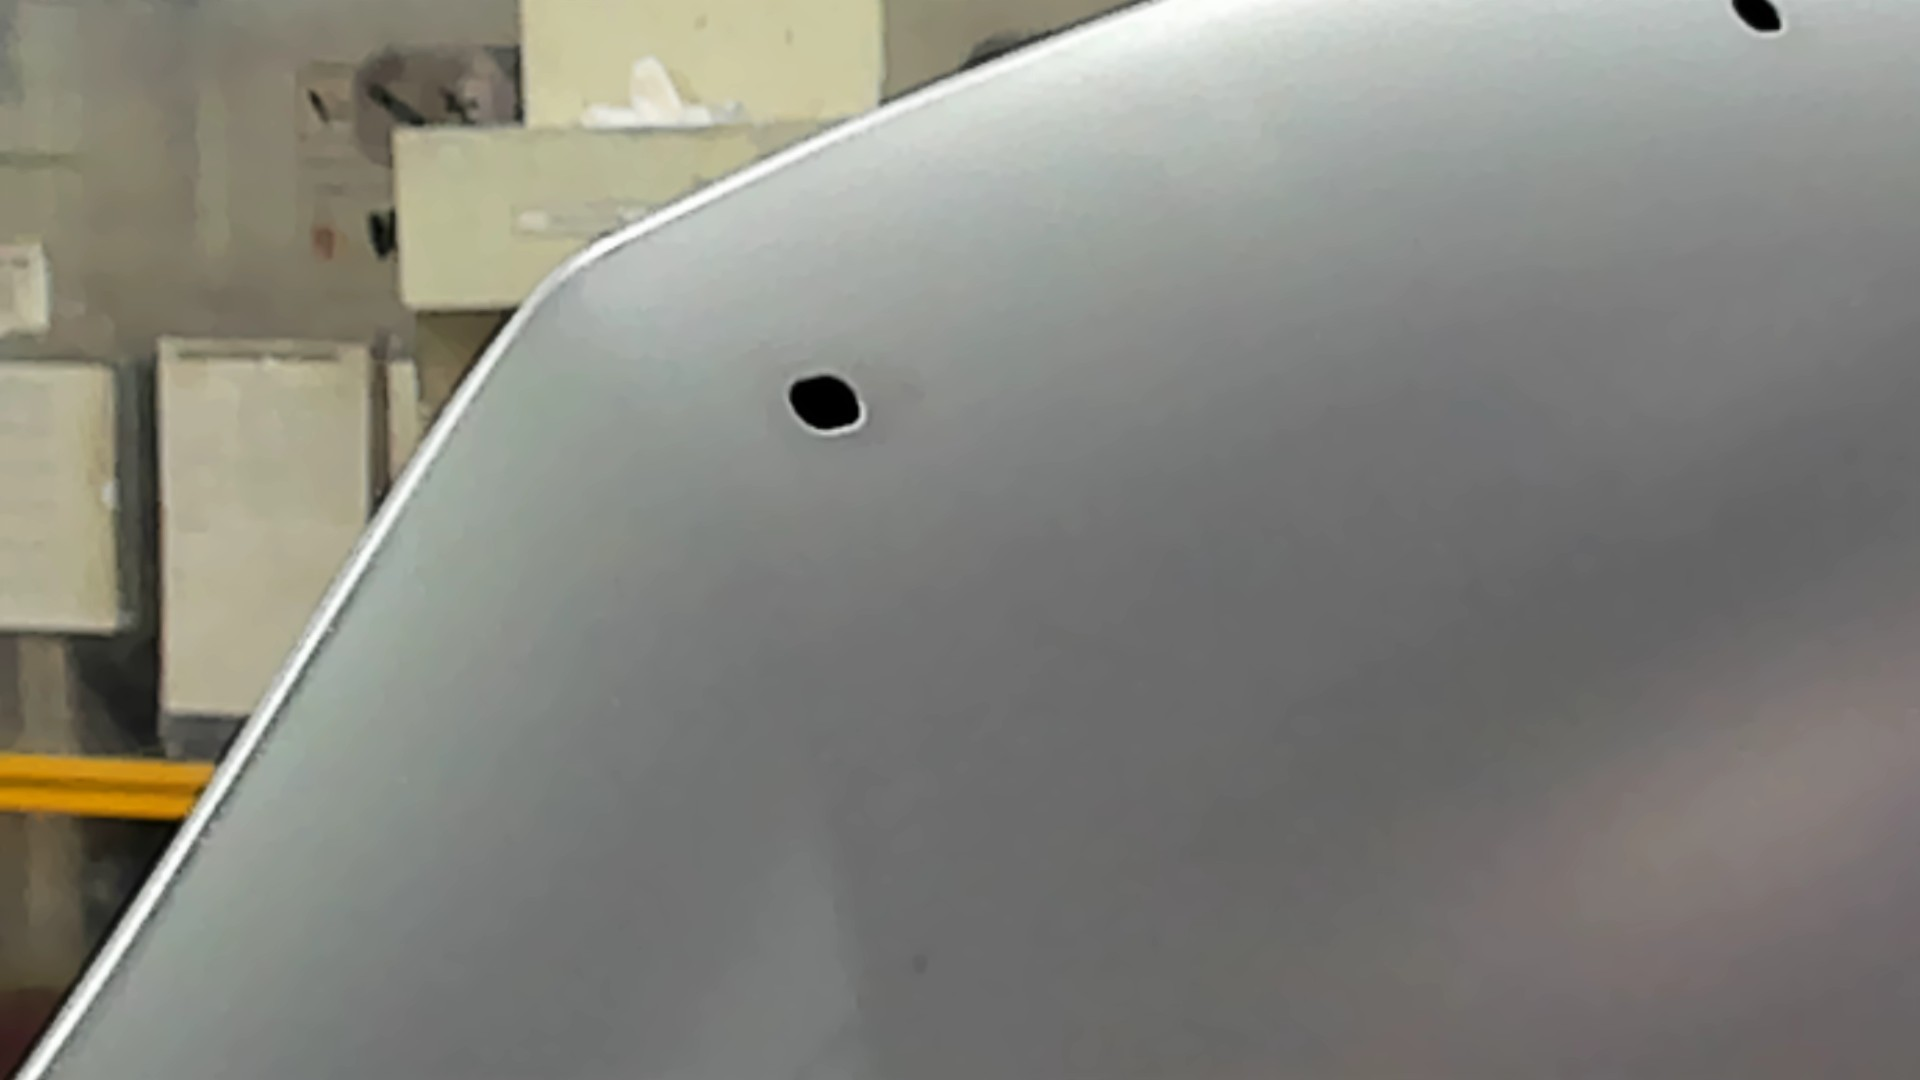amorfo: (773, 364, 877, 442), (1724, 1, 1793, 49)
capo: (961, 127, 1920, 1080)
